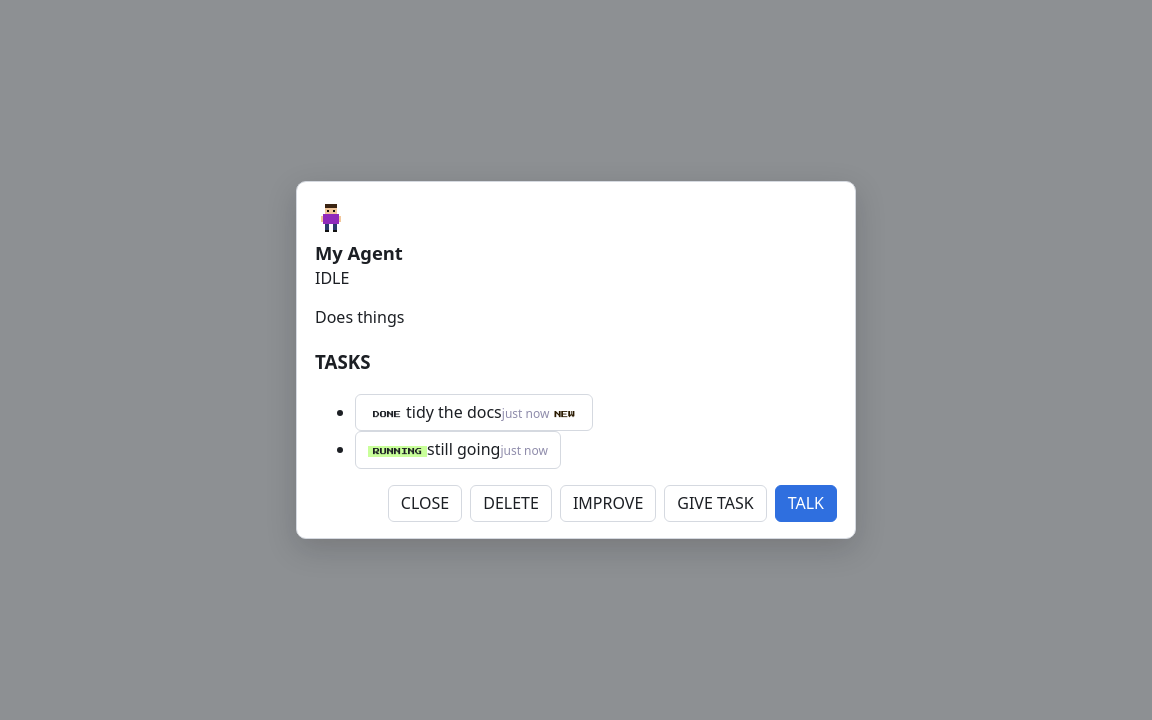
Test case: recent tasks are listed with status and a NEW flag, and open their result
expect the button "still going" shows "RUNNING": met, box [355,431,561,468]
expect the button "still going" does not show "NEW": met, box [355,431,561,468]
Click the button "tidy the docs".
click(474, 413)  # box [355,394,593,431]
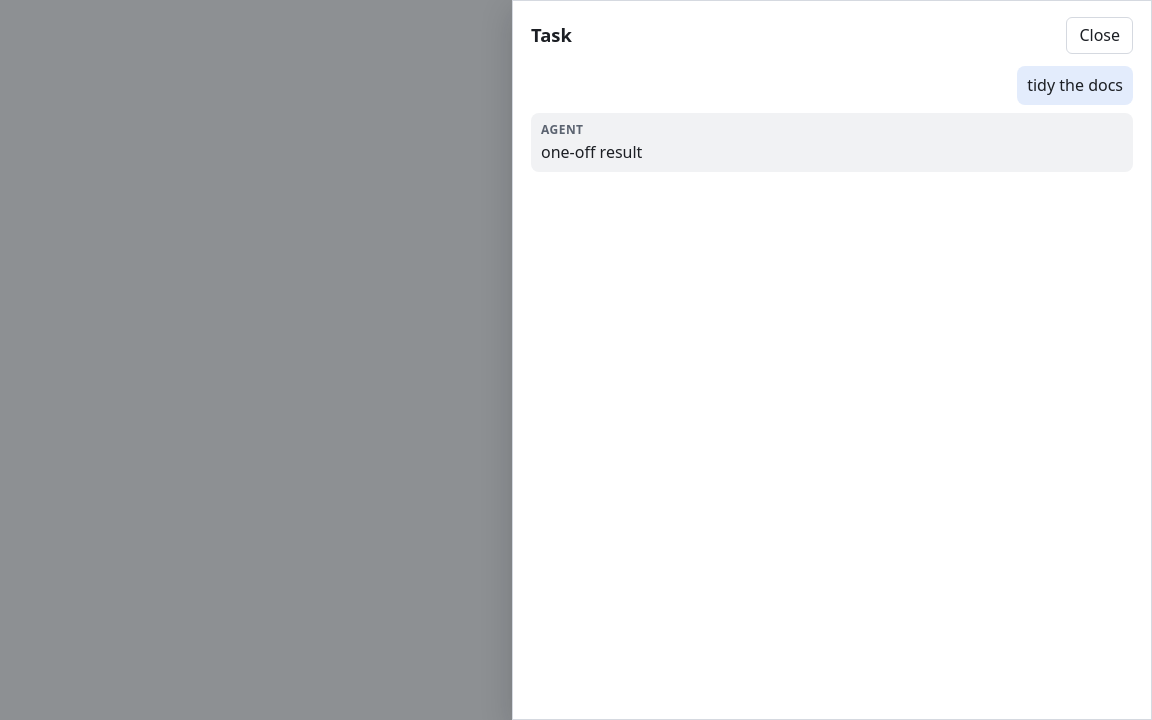
expect the text "one-off result" is shown: met, box [541,141,642,163]
